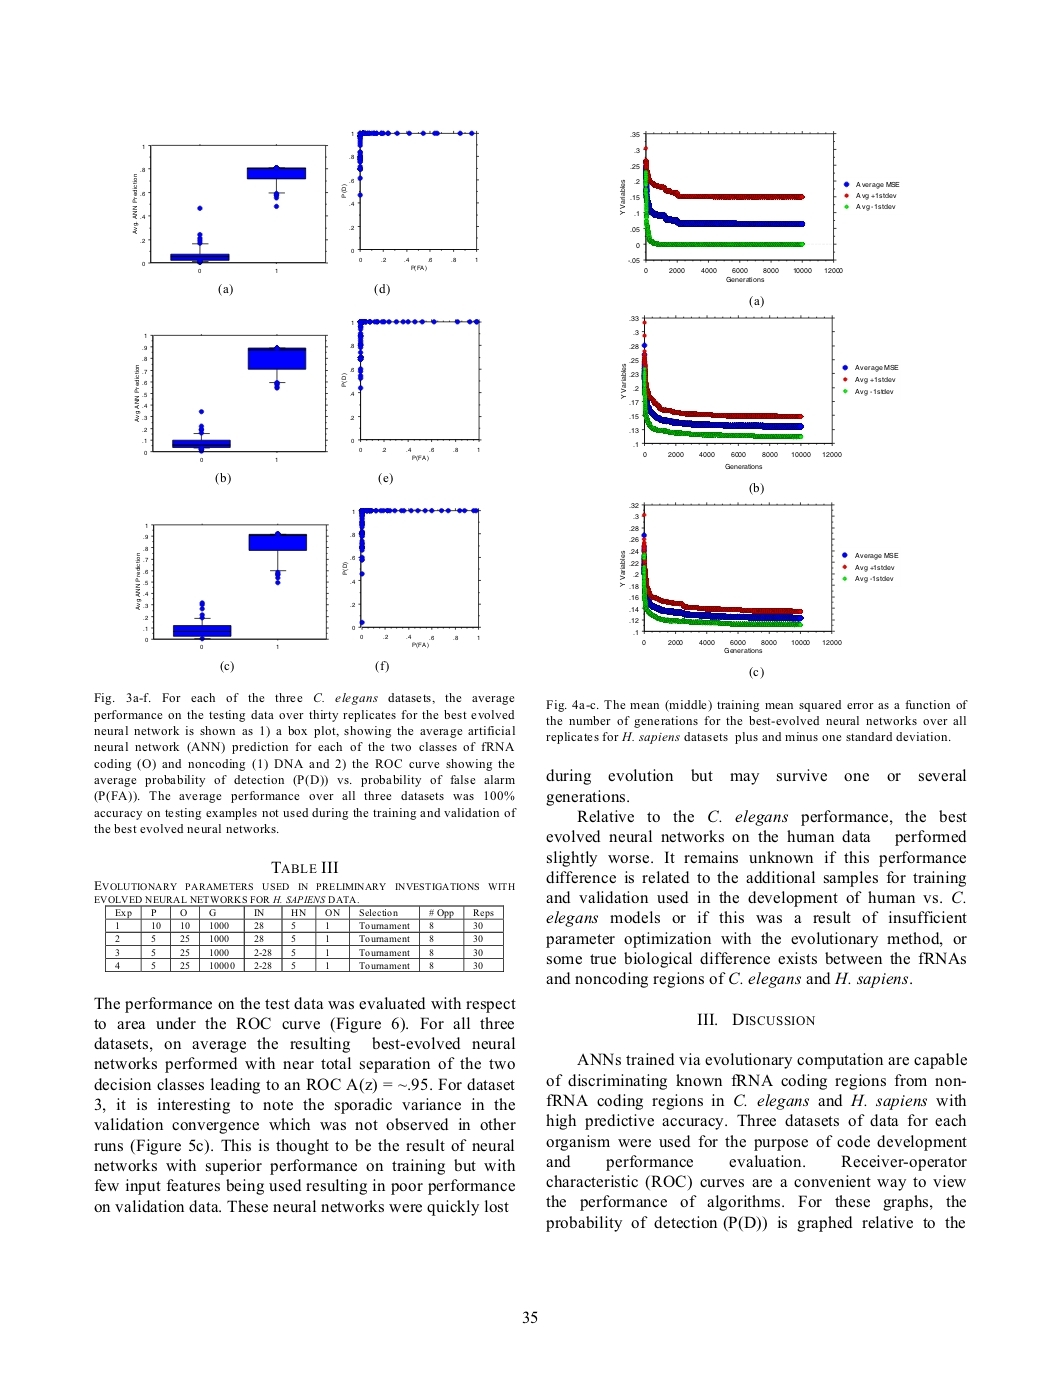Table: (94, 895, 503, 972)
figure: (134, 318, 481, 462), (132, 129, 478, 273), (135, 507, 480, 649), (621, 315, 898, 469), (620, 502, 898, 653), (620, 132, 899, 282)
